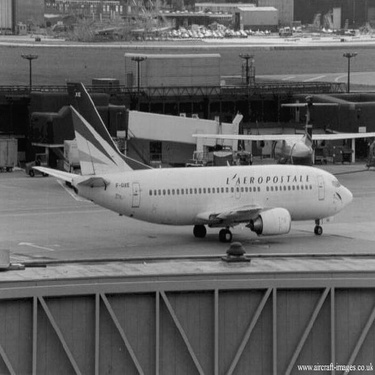airplane: (7, 77, 347, 252)
